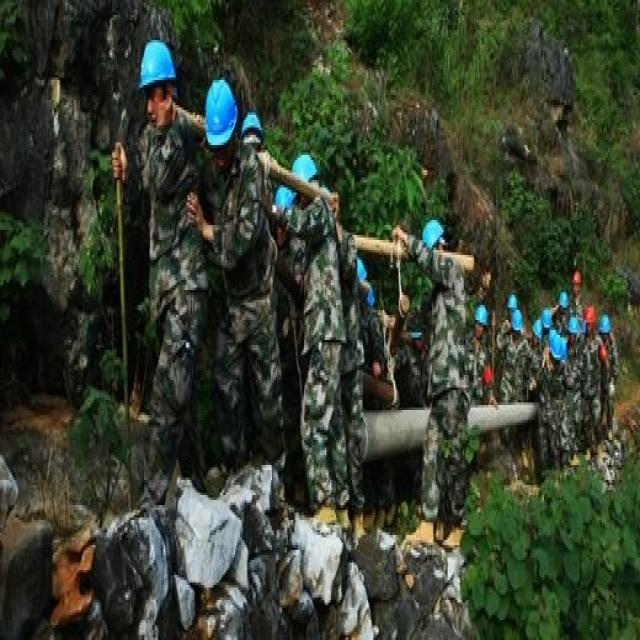helmet: (136, 46, 175, 166), (204, 104, 234, 217), (423, 287, 446, 364), (240, 140, 262, 211), (473, 404, 488, 457), (584, 404, 596, 451), (531, 424, 542, 471), (511, 414, 522, 454), (558, 380, 569, 420), (568, 420, 577, 464), (571, 356, 581, 393)
